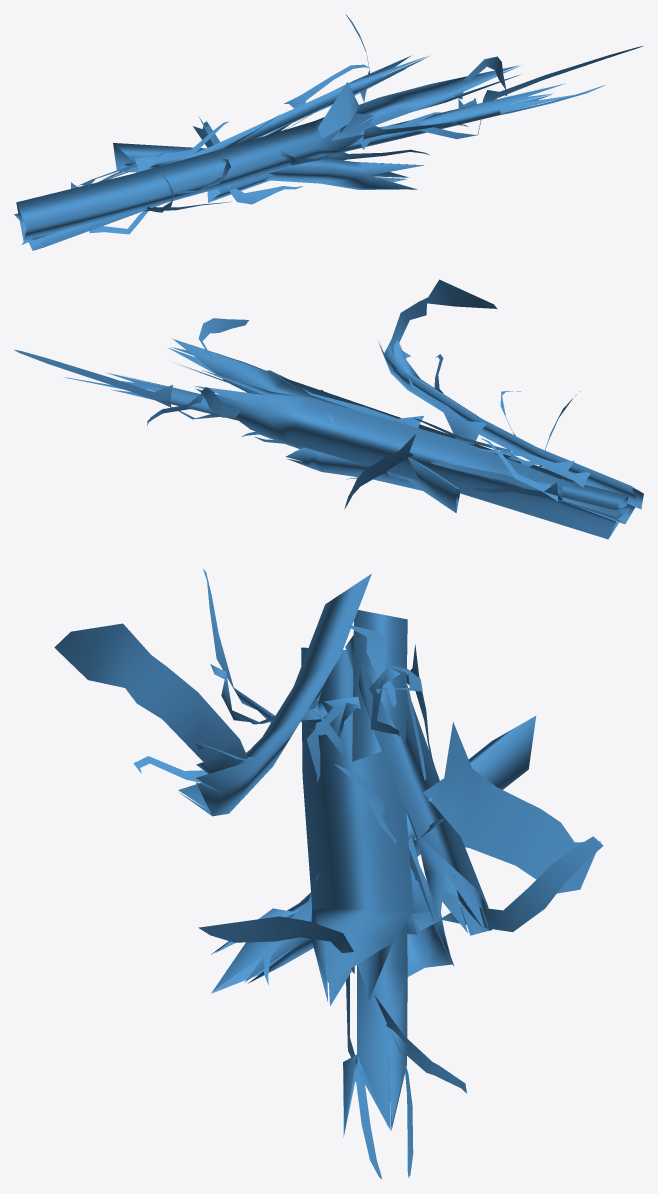
Rendered from grass2.glb.
The picture shows the model from 3 angles, top to bottom: view 1: azimuth 30°, elevation 25°; view 2: azimuth 150°, elevation 25°; view 3: azimuth 270°, elevation 25°; orthographic projection. The views are drawn at different scales.
Visible parts, largest first — view 1: grass2; view 2: grass2; view 3: grass2.
Part boxes in pixels (<box>): grass2: <box>14,14,643,250</box>; grass2: <box>14,279,643,539</box>; grass2: <box>54,569,603,1178</box>.
Size of the model in its own units: 2.09 by 0.5137 by 0.8176.
